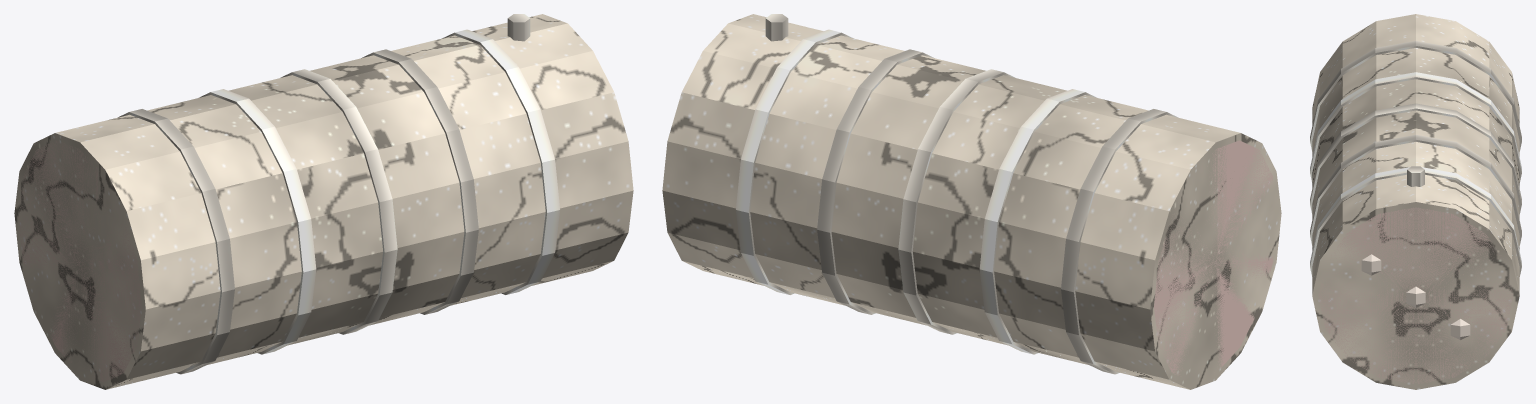
File: mortadella.obj
3 views of the same model, side by side, from view 1: azimuth 30°, elevation 25°; view 2: azimuth 150°, elevation 25°; view 3: azimuth 270°, elevation 25° (orthographic). The views are drawn at different scales.
Parts seen in each view (by area): view 1: mortadella; view 2: mortadella; view 3: mortadella.
Boxes of the visible parts, x1,y1,x2,y2 form: mortadella: (14, 14, 633, 389); mortadella: (662, 14, 1281, 389); mortadella: (1310, 14, 1521, 389).
Size of the model in its own units: 0.3055 by 0.1515 by 0.143.
5 materials, 3 textured.
